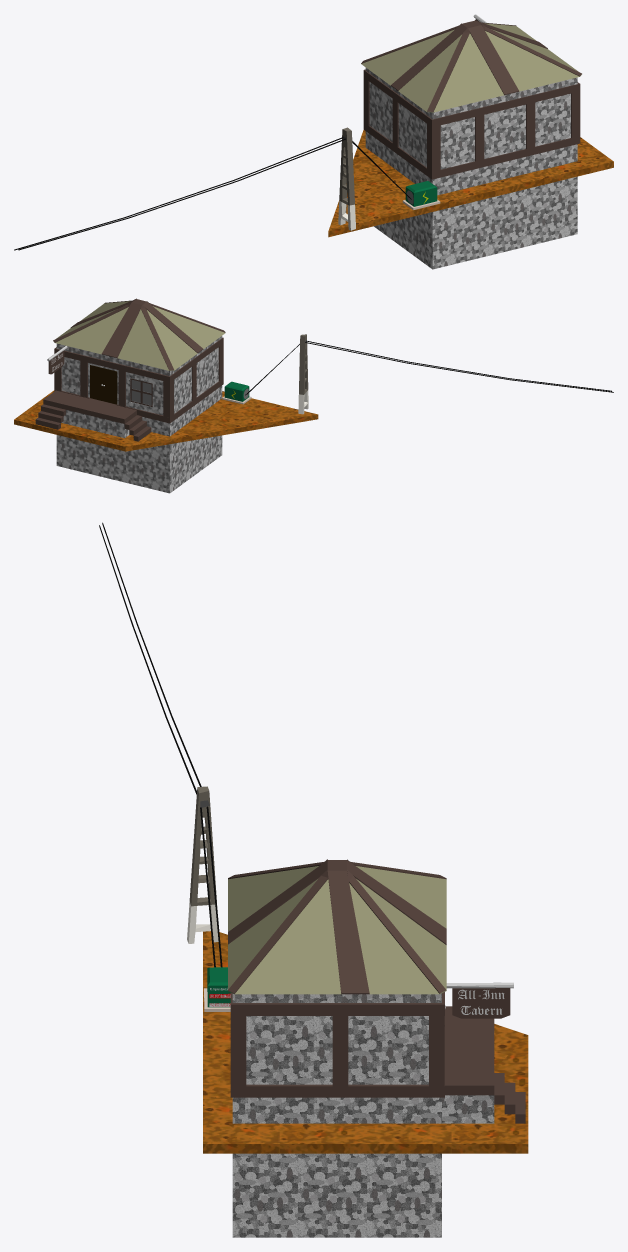
The model's file is Old Tavern & Inn.glb.
3 renders of one model, top to bottom at view 1: azimuth 30°, elevation 25°; view 2: azimuth 150°, elevation 25°; view 3: azimuth 270°, elevation 25°, orthographic. The views are drawn at different scales.
Visible parts, largest first — view 1: Walls, Roof, Ground, Wood Bracing, LV Pole.002, LV Wires.002, Power Box.001; view 2: Walls, Roof, Ground, Wood Bracing, Patio, Stairs, Door, LV Wires.002, LV Pole.002, Window, Power Box.001, Sign; view 3: Walls, Roof, Ground, Wood Bracing, Patio, LV Pole.002, Sign, LV Wires.002, Power Box.001, Stairs.
Boxes of the visible parts, <box> form: Walls: <box>365,67,577,269</box>; Roof: <box>361,20,581,112</box>; Ground: <box>328,130,613,237</box>; Wood Bracing: <box>363,69,580,179</box>; LV Pole.002: <box>338,127,355,230</box>; LV Wires.002: <box>14,137,411,250</box>; Power Box.001: <box>402,181,440,209</box>; Walls: <box>56,336,222,493</box>; Roof: <box>53,298,225,370</box>; Ground: <box>14,390,318,451</box>; Wood Bracing: <box>54,337,223,423</box>; Patio: <box>43,390,136,438</box>; Stairs: <box>35,404,151,441</box>; Door: <box>90,365,117,404</box>; LV Wires.002: <box>245,341,613,395</box>; LV Pole.002: <box>298,334,308,414</box>; Window: <box>130,378,152,406</box>; Power Box.001: <box>222,381,251,404</box>; Sign: <box>47,346,67,374</box>; Walls: <box>232,993,441,1237</box>; Roof: <box>228,859,446,994</box>; Ground: <box>203,931,528,1153</box>; Wood Bracing: <box>230,992,444,1097</box>; Patio: <box>442,1006,494,1123</box>; LV Pole.002: <box>187,786,218,943</box>; Sign: <box>446,982,513,1018</box>; LV Wires.002: <box>99,522,222,967</box>; Power Box.001: <box>204,967,230,1011</box>; Stairs: <box>494,1073,525,1123</box>.
Size of what is drawn, in the model's own units: 33.19 by 10.23 by 12.51.
18 materials, 2 textured.
